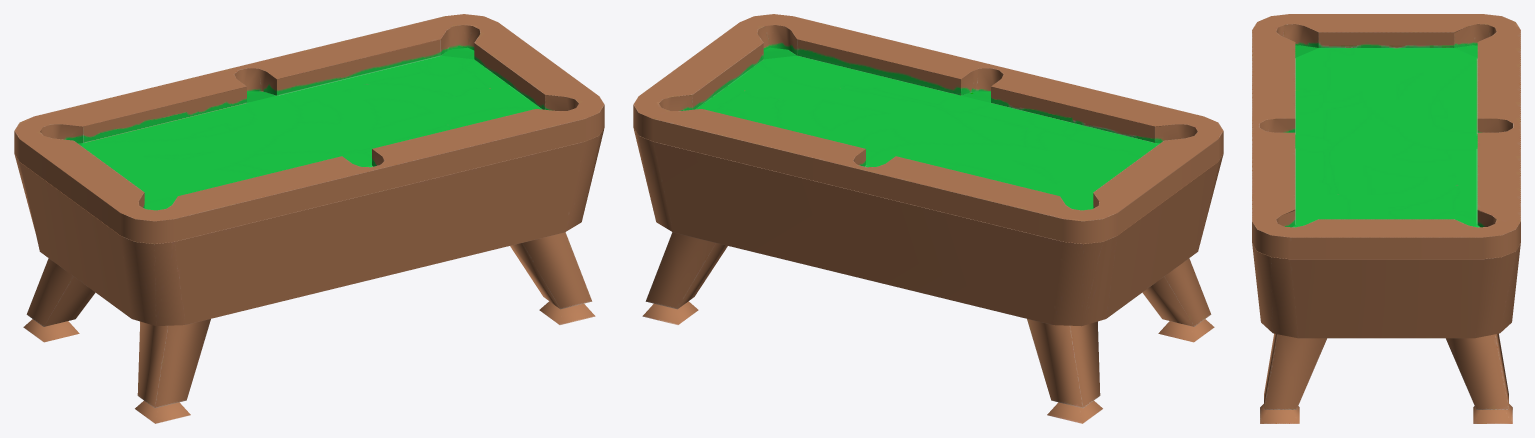
The model's file is PoolTable.fbx.
3 views of the same model, side by side, from view 1: azimuth 30°, elevation 25°; view 2: azimuth 150°, elevation 25°; view 3: azimuth 270°, elevation 25° (orthographic). The views are drawn at different scales.
Visible parts, largest first — view 1: node_id36, node_id38, node_id34; view 2: node_id36, node_id38, node_id34; view 3: node_id38, node_id34, node_id36.
Boxes of the visible parts, bbox=[...] form: node_id36: bbox=[14, 127, 604, 423]; node_id38: bbox=[40, 25, 578, 210]; node_id34: bbox=[14, 14, 604, 243]; node_id36: bbox=[633, 127, 1223, 423]; node_id38: bbox=[659, 25, 1197, 210]; node_id34: bbox=[633, 14, 1223, 243]; node_id38: bbox=[1260, 24, 1512, 227]; node_id34: bbox=[1252, 14, 1520, 258]; node_id36: bbox=[1252, 244, 1520, 423].
Size of the model in its own units: 0.512 by 0.2087 by 0.2601.
3 materials, 3 textured.
